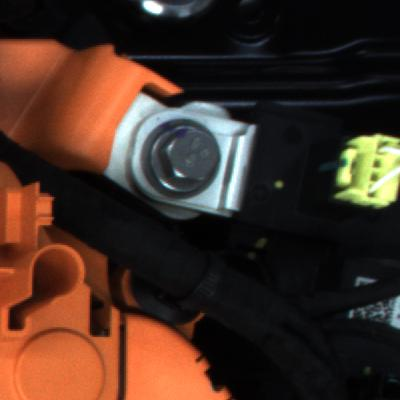nut_b: (142, 117, 231, 205)
